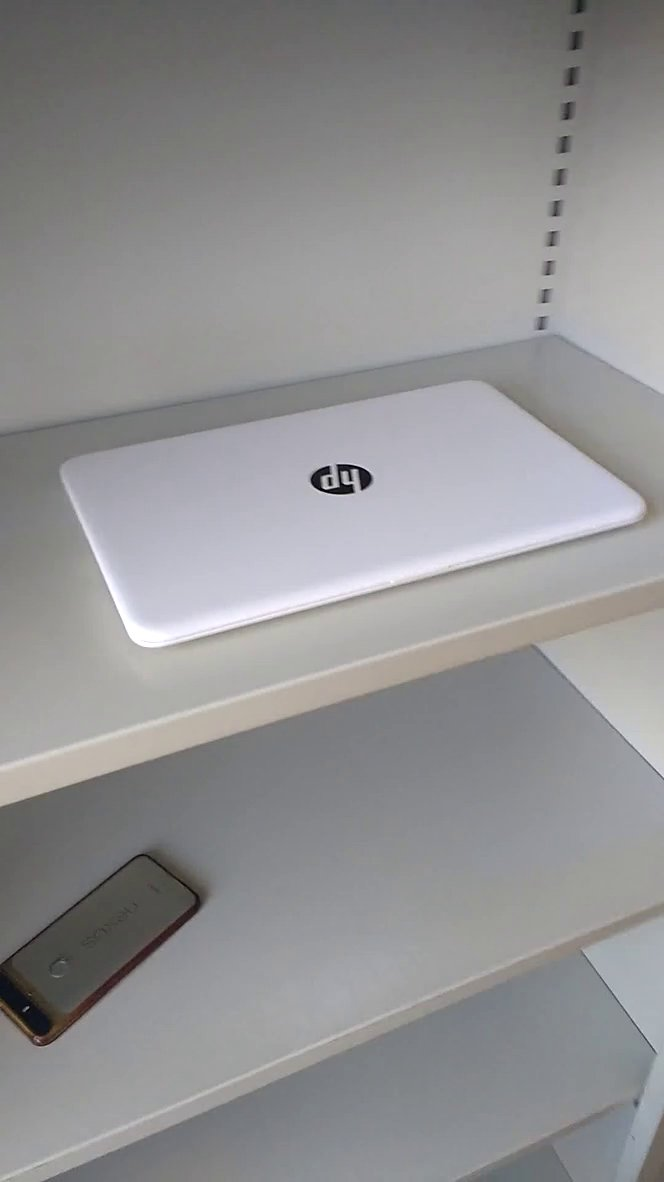laptop: (44, 366, 660, 666)
phone: (1, 835, 214, 1055)
